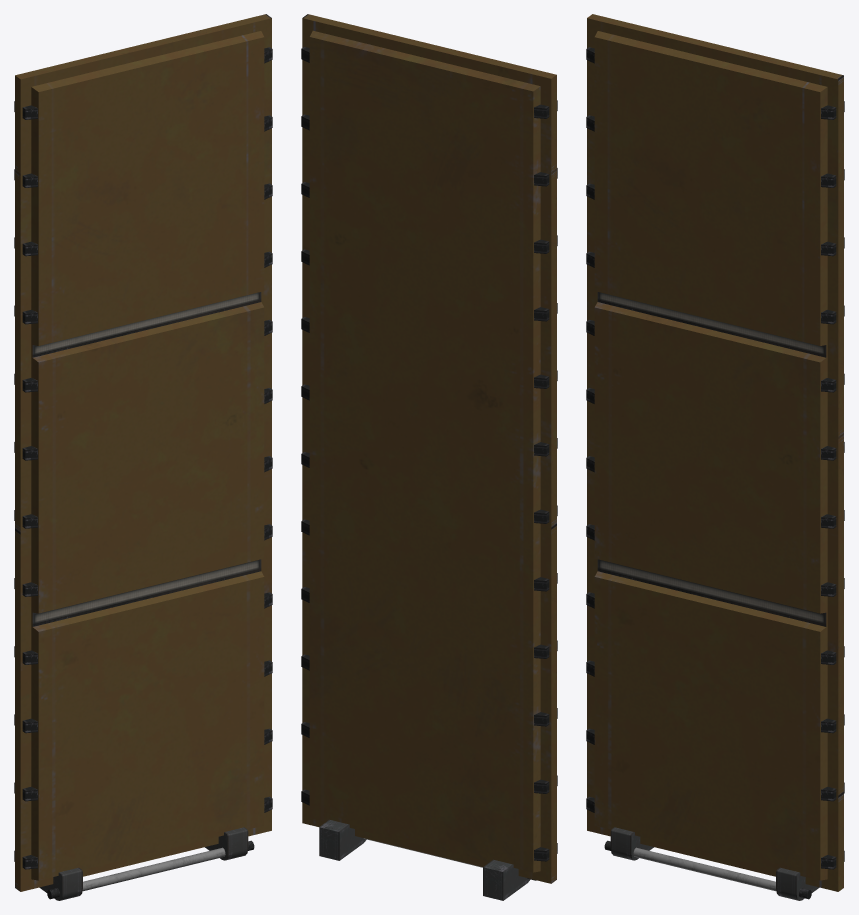
Rendered from Subway_Wall_el1B.fbx.
3 views of the same model, side by side, from view 1: azimuth 30°, elevation 25°; view 2: azimuth 150°, elevation 25°; view 3: azimuth 330°, elevation 25° (orthographic).
Visible parts, largest first — view 1: polySurface762; view 2: polySurface762; view 3: polySurface762.
Boxes of the visible parts, box(x1,y1,x2,y2) form: polySurface762: box(14, 14, 272, 900); polySurface762: box(301, 14, 557, 900); polySurface762: box(586, 14, 844, 900).
Bounding box in the file's own units: 93.47 × 294 × 19.44.
